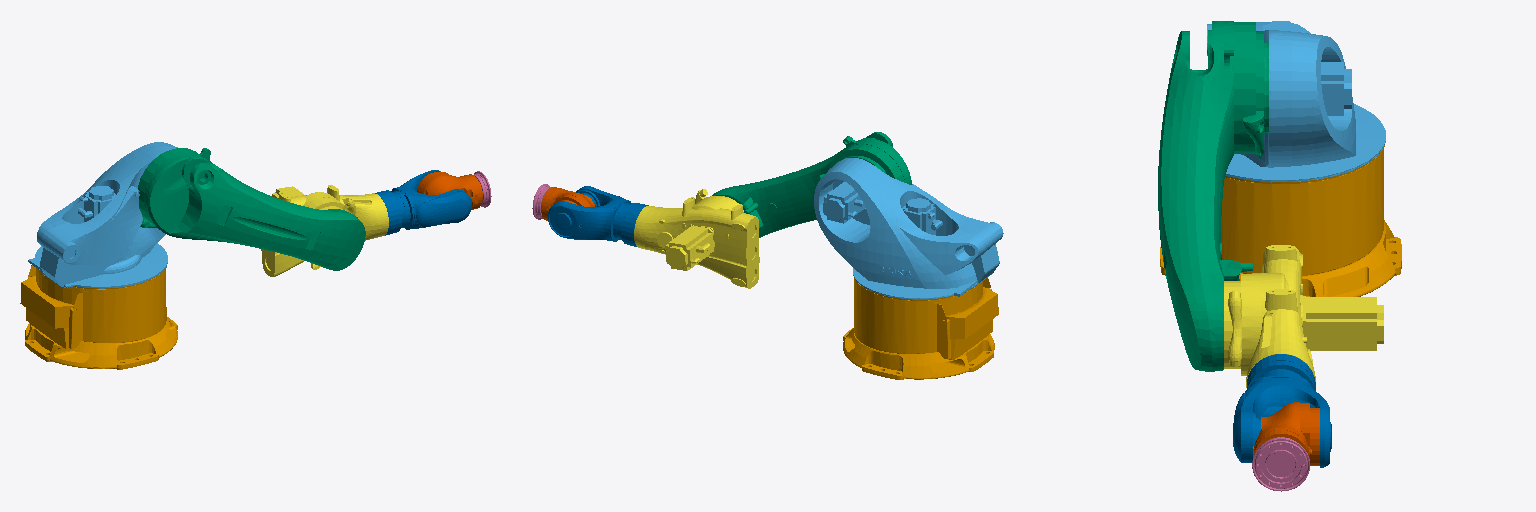
The robot description file, URDF, robot "KR500 R2830 C":
<?xml version="1.0" ?>
<robot name="KR500 R2830 C">
    <!-- Properties -->
    <material name="kuka_gray">
        <color rgba="0.4 0.4 0.4 1" />
    </material>
    <material name="kuka_organge">
        <color rgba="0.96 0.65 0.14 1" />
    </material>
    <!-- link list -->
    <link name="base_link">
        <visual>
            <geometry>
                <mesh filename="visual/base_link.stl" material_name="kuka_gray"/>
            </geometry>
        </visual>
    </link>
    <link name="link1">
        <visual>
            <geometry>
                <mesh filename="visual/link_1.stl" material_name="kuka_organge"/>
            </geometry>
        </visual>
    </link>
    <link name="link2">
        <visual>
            <geometry>
                <mesh filename="visual/link_2.stl" material_name="kuka_organge"/>
            </geometry>
        </visual>
    </link>
    <link name="link3">
        <visual>
            <geometry>
                <mesh filename="visual/link_3.stl" material_name="kuka_organge"/>
            </geometry>
        </visual>
    </link>
    <link name="link4">
        <visual>
            <geometry>
                <mesh filename="visual/link_4.stl" material_name="kuka_organge"/>
            </geometry>
        </visual>
    </link>
    <link name="link5">
        <visual>
            <geometry>
                <mesh filename="visual/link_5.stl" material_name="kuka_organge"/>
            </geometry>
        </visual>
    </link>
    <link name="link6">
        <visual>
            <geometry>
                <mesh filename="visual/link_6.stl" material_name="kuka_organge"/>
            </geometry>
        </visual>
    </link>
    <link name="ee_link"/>
    <!-- end of link list -->
    <!-- joint list -->
    <joint name="joint1" type="revolute">
        <parent link="base_link"/>
        <child link="link1"/>
        <origin xyz="0 0 0" rpy="0 0 0" />
        <axis xyz="0 0 -1" />
        <limit lower="-185" upper="185" velocity="90"/>
    </joint>
    <joint name="joint2" type="revolute">
        <parent link="link1"/>
        <child link="link2"/>
        <origin xyz="0.5 0 1.045" rpy="0 90 0" />
        <axis xyz="0 1 0" />
        <limit lower="-130" upper="20" velocity="80"/>
    </joint>
    <joint name="joint3" type="revolute">
        <parent link="link2"/>
        <child link="link3"/>
        <origin xyz="0 0 1.3" rpy="0 -90 0" />
        <axis xyz="0 1 0" />
        <limit lower="-100" upper="144" velocity="75"/>
    </joint>
    <joint name="joint4" type="revolute">
        <parent link="link3"/>
        <child link="link4"/>
        <origin xyz="1.025 0 -0.055" rpy="0 0 0" />
        <axis xyz="-1 0 0" />
        <limit lower="-350" upper="350" velocity="90"/>
    </joint>
    <joint name="joint5" type="revolute">
        <parent link="link4"/>
        <child link="link5"/>
        <origin xyz="0 0 0" rpy="0 0 0" />
        <axis xyz="0 1 0" />
        <limit lower="-120" upper="120" velocity="83"/>
    </joint>
    <joint name="joint6" type="revolute">
        <parent link="link5"/>
        <child link="link6"/>
        <origin xyz="0 0 0" rpy="0 0 0" />
        <axis xyz="-1 0 0" />
        <limit lower="-350" upper="350" velocity="130"/>
    </joint>
    <joint name="joint_6_t-tool0" type="fixed">
        <origin xyz="0.29 0 0" rpy="0 90 0"/>
        <parent link="link6"/>
        <child link="ee_link"/>
    </joint>
    <!-- end of joint list -->
    <tcp xyz="0 0 0" rpy="0 0 0"/>

    <!-- home positions  -->
    <home_positions joints="0 -90 90 0 90 0" />

    <!-- Ortho-parallel Basis and a Spherical Wrist -->
    <opw_parameters>
        <c1>1.045</c1>
        <c2>1.3</c2>
        <c3>1.025</c3>
        <c4>0.29</c4>
        <a1>0.5</a1>
        <a2>0.055</a2>
        <b>0</b>
        <joint1 sign_correction="-1" offset="0"/>
        <joint2 sign_correction="1" offset="-90"/>
        <joint3 sign_correction="1" offset="0"/>
        <joint4 sign_correction="-1" offset="0"/>
        <joint5 sign_correction="1" offset="0"/>
        <joint6 sign_correction="-1" offset="0"/>
    </opw_parameters>
</robot>

--- What the picture shows (computed from the rendered views, not written in the file) ---
Views: 3 orthographic renders of the robot side by side, from view 1: azimuth 30°, elevation 25°; view 2: azimuth 150°, elevation 25°; view 3: azimuth 270°, elevation 25°.
Robot: KR500 R2830 C — 8 links, 7 joints (6 revolute, 1 fixed); root link base_link; default pose: every joint at zero.
Visible links, largest first — view 1: link2, base_link, link1, link4, link3, link5; view 2: link1, base_link, link3, link2, link4, link5; view 3: link2, base_link, link1, link3, link4, link6, link5.
Link boxes in pixels (x1=…): link2: x1=138, y1=148, x2=365, y2=270; base_link: x1=20, y1=265, x2=177, y2=369; link1: x1=28, y1=142, x2=177, y2=288; link4: x1=375, y1=170, x2=471, y2=235; link3: x1=261, y1=185, x2=388, y2=276; link5: x1=417, y1=171, x2=482, y2=209; link1: x1=814, y1=158, x2=1003, y2=299; base_link: x1=843, y1=278, x2=998, y2=379; link3: x1=634, y1=189, x2=759, y2=288; link2: x1=712, y1=132, x2=911, y2=237; link4: x1=548, y1=186, x2=648, y2=246; link5: x1=541, y1=187, x2=594, y2=220; link2: x1=1158, y1=21, x2=1268, y2=371; base_link: x1=1160, y1=146, x2=1401, y2=296; link1: x1=1207, y1=21, x2=1385, y2=182; link3: x1=1224, y1=245, x2=1383, y2=387; link4: x1=1233, y1=354, x2=1331, y2=467; link6: x1=1252, y1=437, x2=1309, y2=491; link5: x1=1253, y1=402, x2=1319, y2=465.
Bounding box of the posed robot: 3.5 × 1.05 × 1.34 m (x, y, z).
Meshes: 7 distinct files referenced, 7 mesh visuals loaded (7 binary STL).